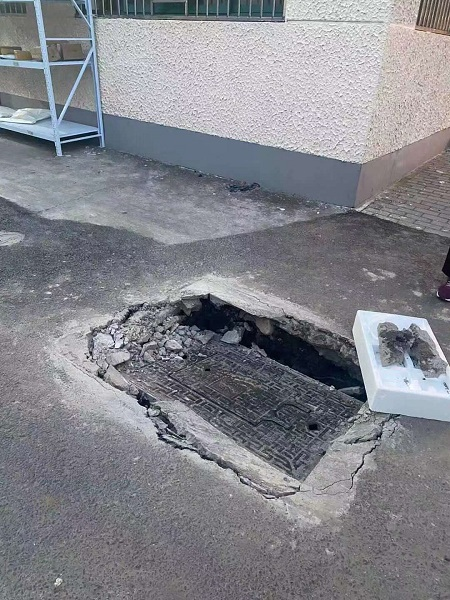circle: (24, 261, 441, 527)
